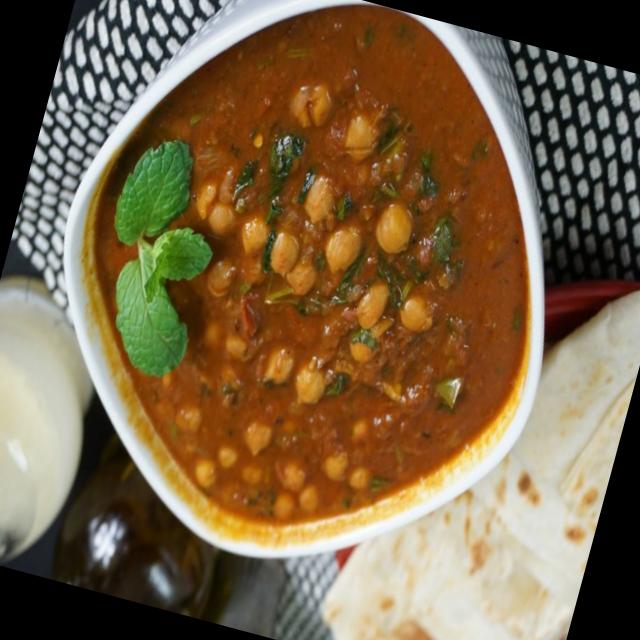Chole: (27, 0, 602, 581)
